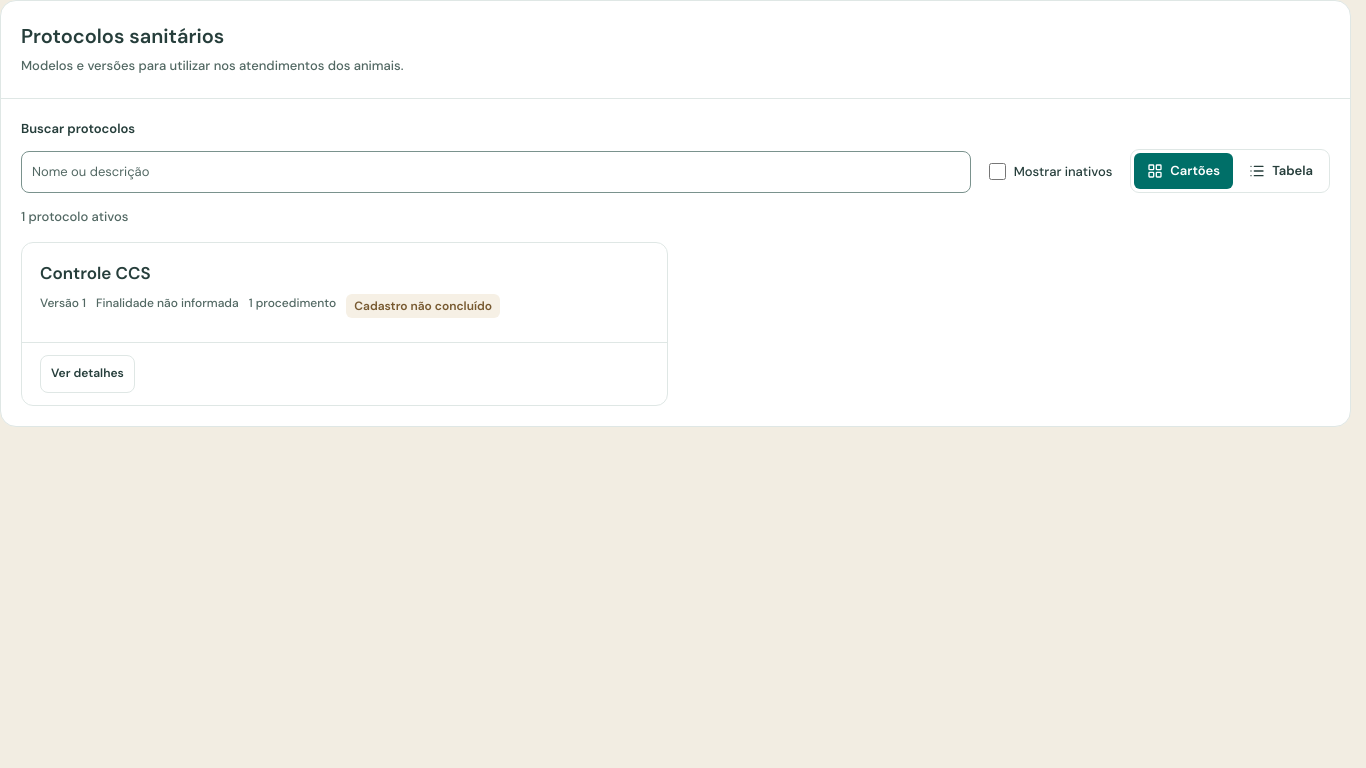
Test case: lista metadados e busca estrutura somente no modal de consulta, inclusive para leitor
Expected: the heading "Controle CCS" is shown, [40,262,151,284]
Click the button with aria-label "Ver detalhes de": point(87, 374) [40,354,135,392]
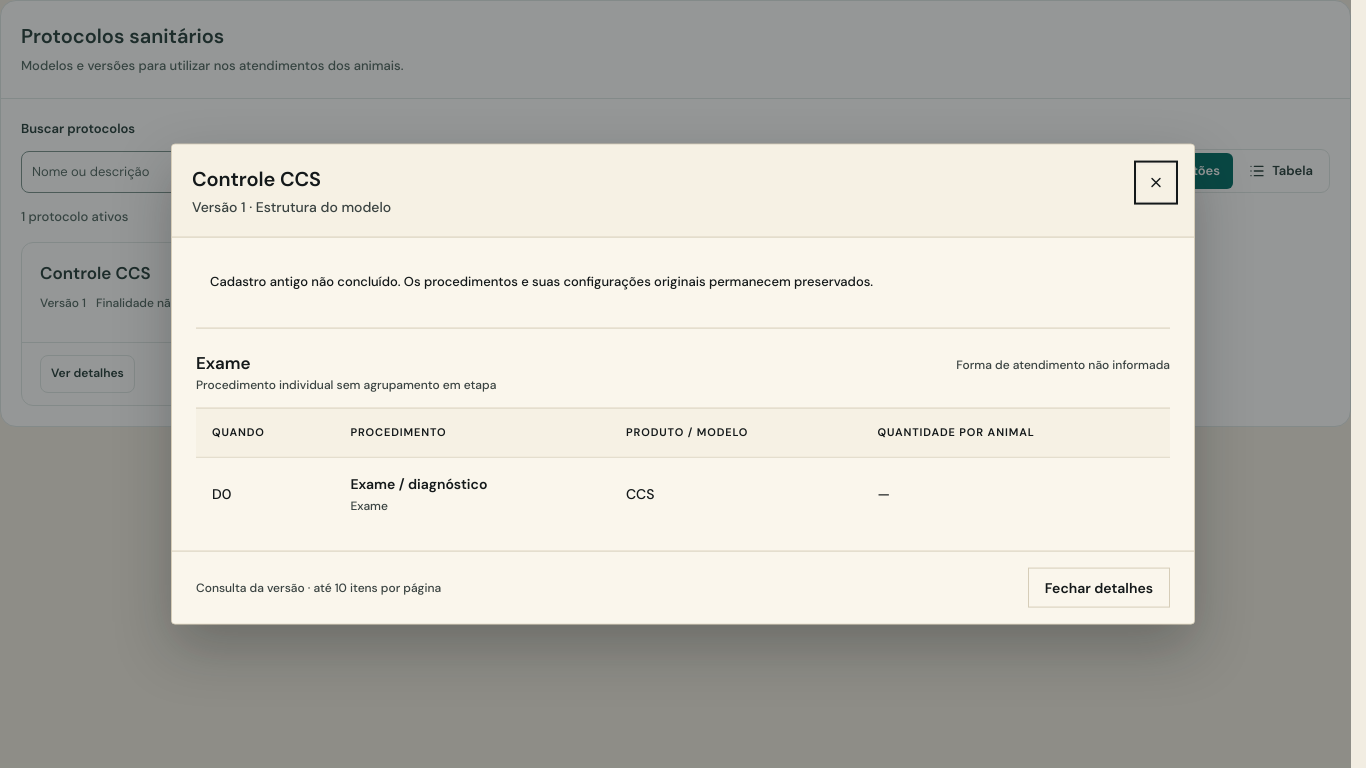
Now the dialog is shown, box [171,144,1195,624]
Now the text "Procedimento individual sem agrupamento em etapa" is shown, box [196,376,496,394]
